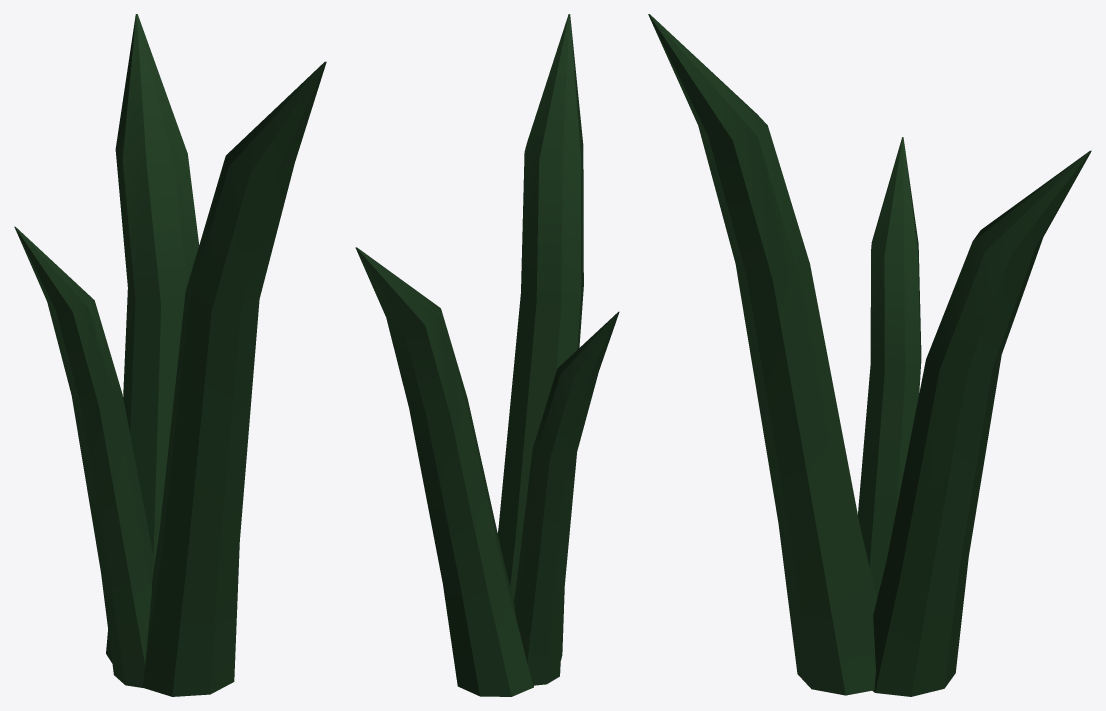
File: Grass2.fbx
3 renders of one model, left to right at view 1: azimuth 30°, elevation 25°; view 2: azimuth 150°, elevation 25°; view 3: azimuth 270°, elevation 25°, orthographic. The views are drawn at different scales.
Visible parts, largest first — view 1: pCylinder4; view 2: pCylinder4; view 3: pCylinder4.
Part boxes in pixels (box(x1,y1,x2,y2)): pCylinder4: box(14, 14, 326, 696); pCylinder4: box(355, 14, 619, 696); pCylinder4: box(648, 14, 1091, 696).
Bounding box in the file's own units: 2.15 × 6.32 × 3.72.
